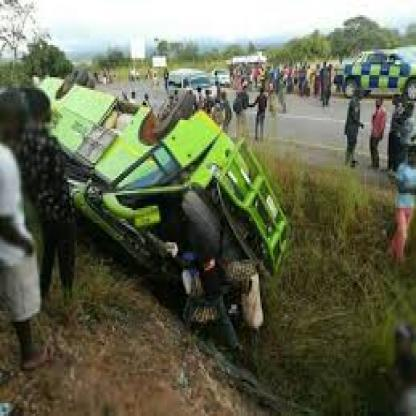accident: (25, 58, 293, 348)
